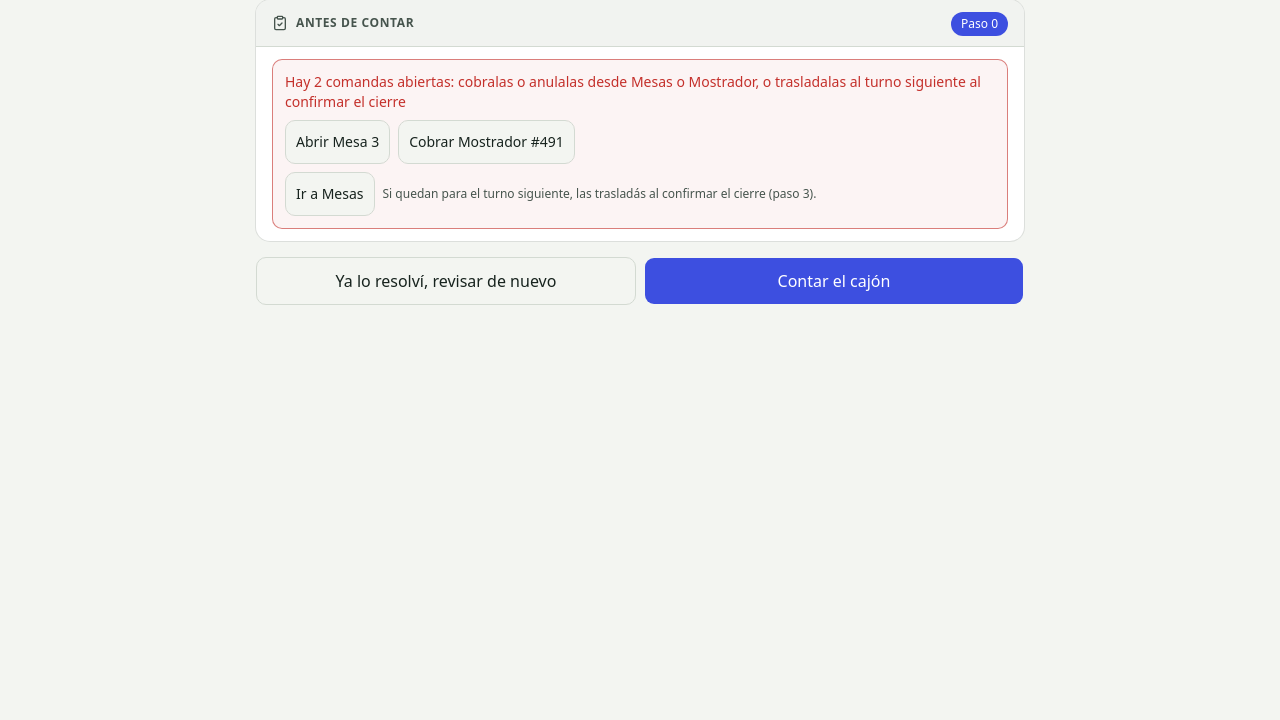
Test: CloseWizard — paso 0, retomar y volver a contar › con comandas abiertas arranca en el paso 0, sin ninguna cifra, y deja pasar a contar
Expected: the heading "Antes de contar" is shown, [296, 15, 414, 31]
Expected: the text "Hay 2 comandas abiertas" is shown, [285, 72, 981, 111]
What coordinates should you click on to do the following:
click the button "Contar el cajón"
I would click on:
 (834, 281)
Its box is [644, 257, 1024, 305].
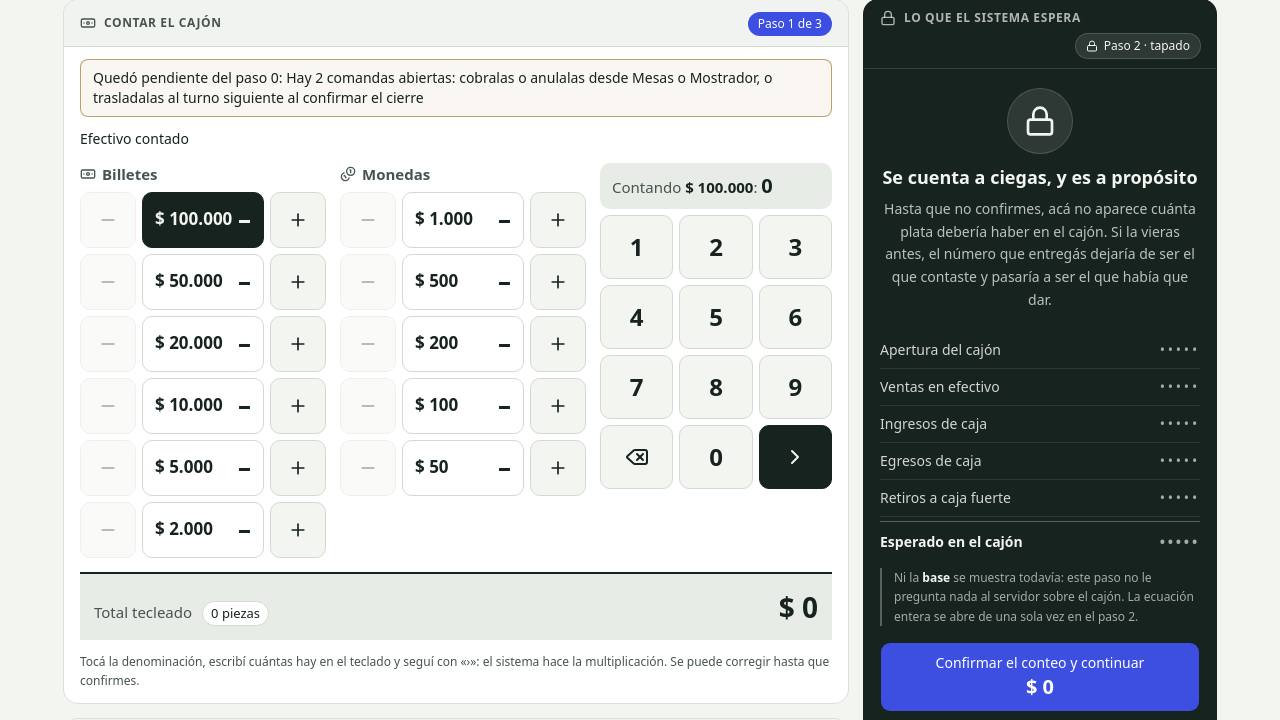
Expected: the button "Confirmar el conteo y continuar $ 0" is shown, [880, 642, 1200, 712]
Expected: the text "Quedó pendiente del paso 0" is shown, [93, 68, 286, 87]
